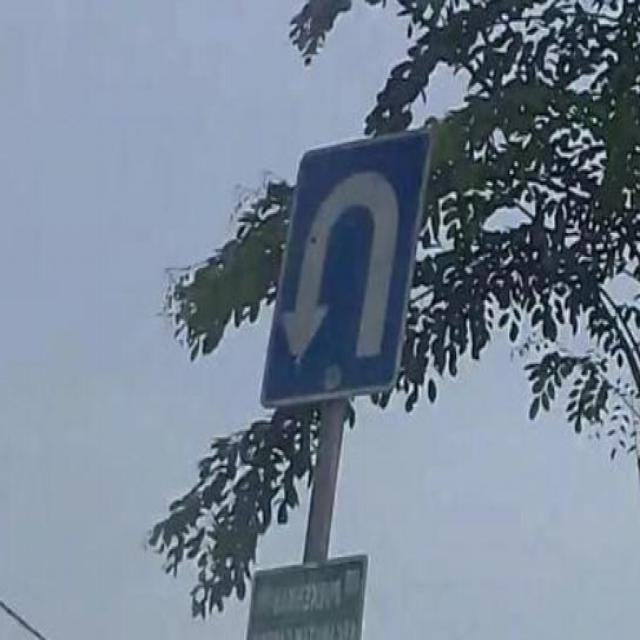U-turn: (275, 136, 423, 396)
